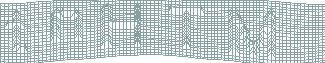H: (99, 3, 145, 50)
M: (225, 6, 278, 60)
T: (167, 4, 206, 51)
n: (48, 5, 85, 45)
t: (3, 8, 28, 56)
